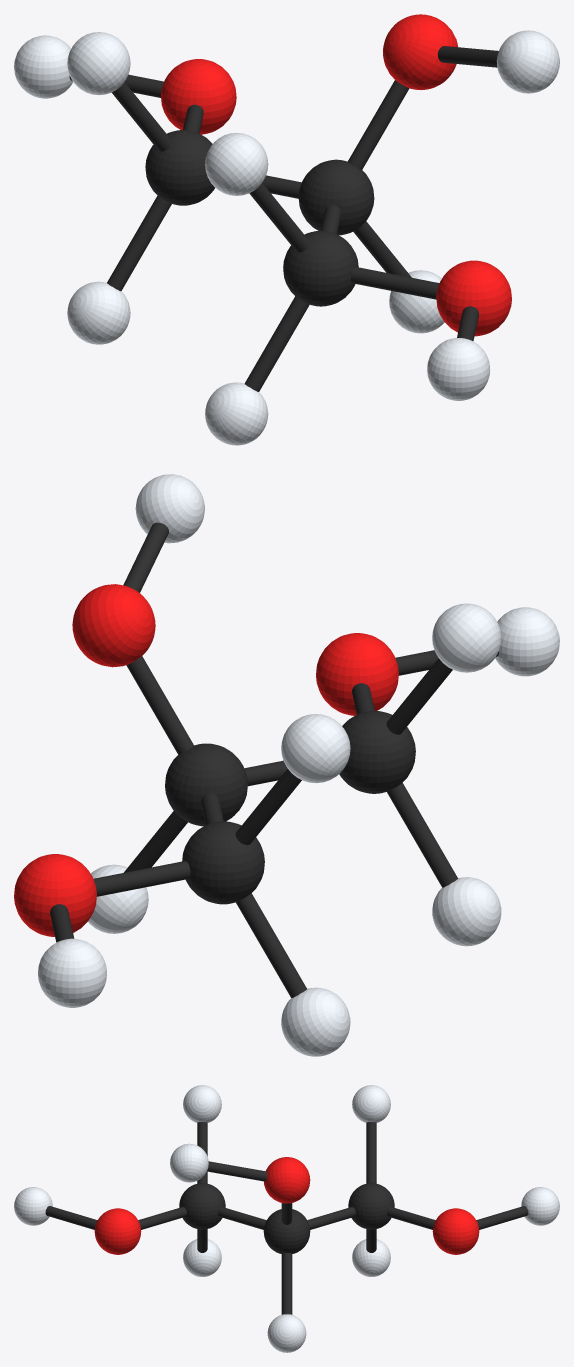
The model's file is glycerin.fbx.
3 views of the same model, one above another, from view 1: azimuth 30°, elevation 25°; view 2: azimuth 150°, elevation 25°; view 3: azimuth 270°, elevation 25° (orthographic). The views are drawn at different scales.
Visible parts, largest first — view 1: glycerin; view 2: glycerin; view 3: glycerin.
Part boxes in pixels (box(x1,y1,x2,y2)): glycerin: box(14, 14, 559, 445); glycerin: box(14, 474, 559, 1056); glycerin: box(14, 1085, 559, 1352).
Size of the model in its own units: 184 by 182 by 422.
